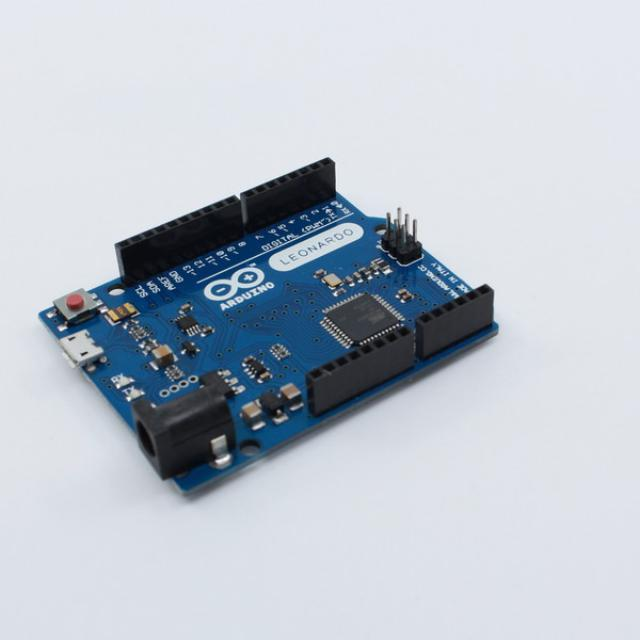Arduino-leonardo: (40, 159, 499, 494)
